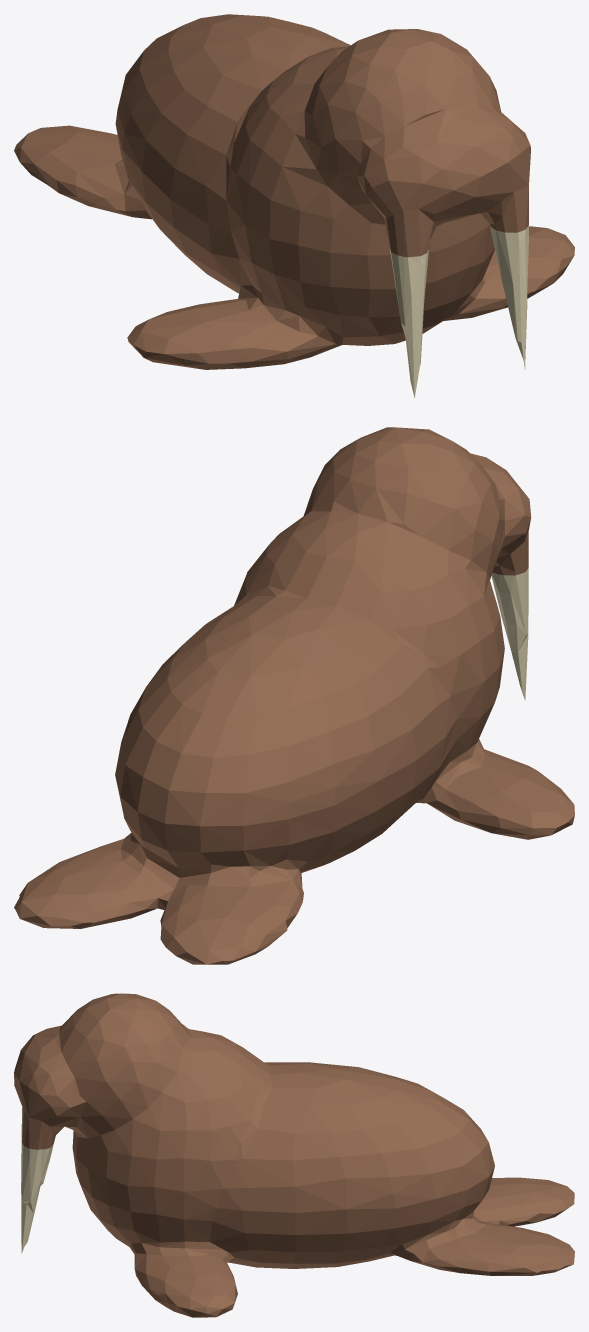
The model's file is NEW_RECOVERY_045_LOD2.fbx.
The picture shows the model from 3 angles, top to bottom: view 1: azimuth 30°, elevation 25°; view 2: azimuth 150°, elevation 25°; view 3: azimuth 270°, elevation 25°; orthographic projection. The views are drawn at different scales.
Parts seen in each view (by area): view 1: WholeWalrus; view 2: WholeWalrus; view 3: WholeWalrus.
Part boxes in pixels (box(x1,y1,x2,y2)): WholeWalrus: box(14, 14, 574, 397); WholeWalrus: box(14, 427, 574, 964); WholeWalrus: box(14, 993, 574, 1317).
Size of the model in its own units: 359 by 515 by 261.
